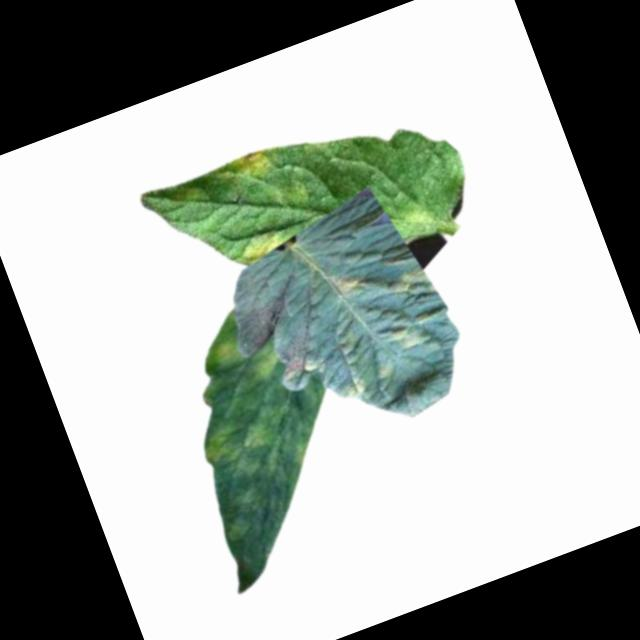Leaf_Mold: (193, 393, 316, 496), (380, 256, 442, 310), (237, 226, 292, 274), (240, 335, 288, 386), (384, 315, 436, 361), (322, 263, 372, 309), (227, 146, 274, 189), (204, 336, 245, 377), (332, 371, 374, 407), (371, 359, 399, 385)
